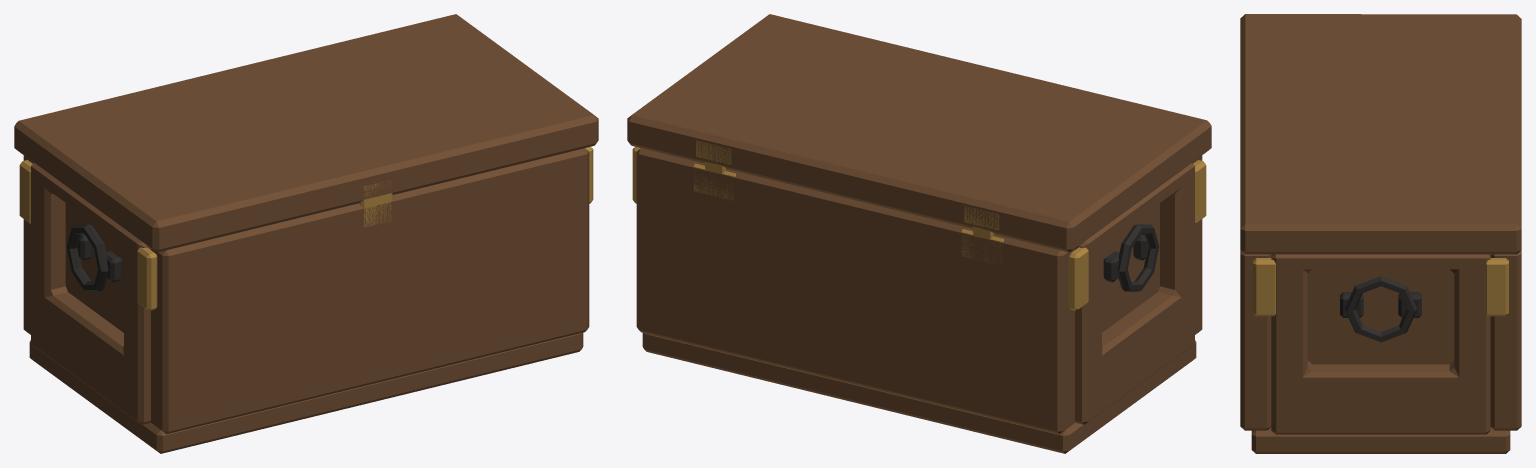
The model's file is instrument_chest.glb.
3 renders of one model, left to right at view 1: azimuth 30°, elevation 25°; view 2: azimuth 150°, elevation 25°; view 3: azimuth 270°, elevation 25°, orthographic.
Visible parts, largest first — view 1: instrument_chest, instrument_chest_lid; view 2: instrument_chest, instrument_chest_lid; view 3: instrument_chest_lid, instrument_chest.
Part boxes in pixels (left/top/right/bottom): instrument_chest: left=19, top=146, right=593, bottom=453; instrument_chest_lid: left=14, top=14, right=598, bottom=252; instrument_chest: left=632, top=146, right=1206, bottom=453; instrument_chest_lid: left=627, top=14, right=1211, bottom=252; instrument_chest_lid: left=1240, top=14, right=1521, bottom=254; instrument_chest: left=1240, top=250, right=1521, bottom=453.
Size of the model in its own units: 0.9 by 0.46 by 0.5.
